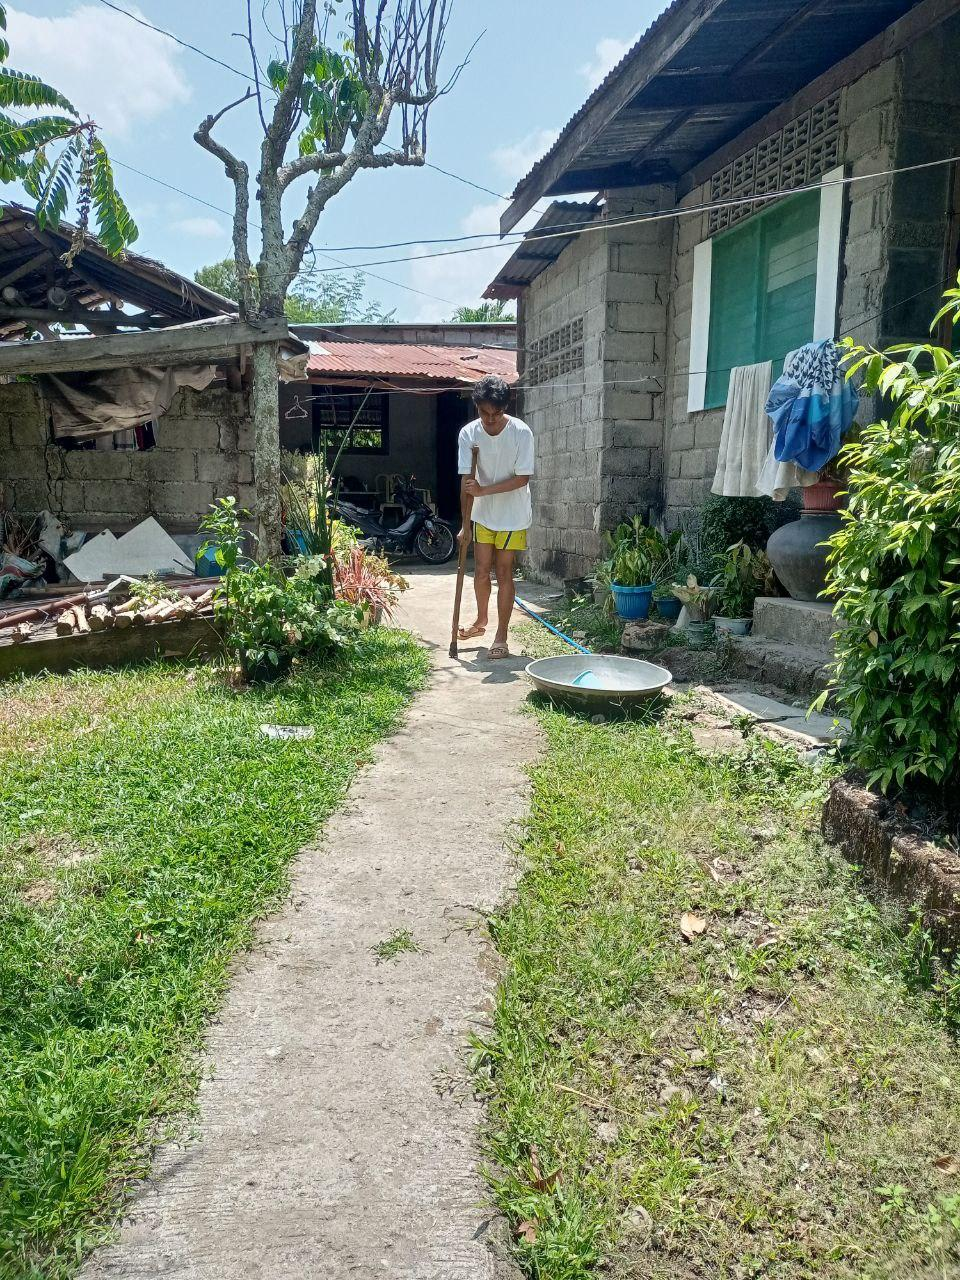crutches: (446, 368, 537, 664)
